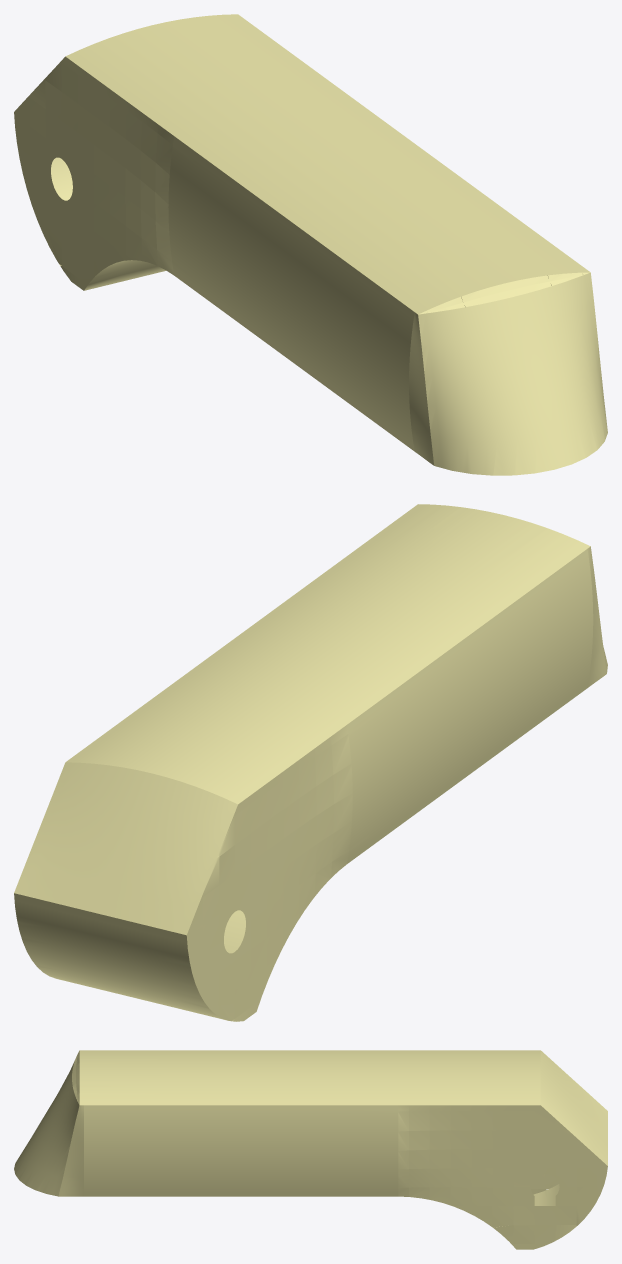
The model's file is original-1.obj.
3 renders of one model, top to bottom at view 1: azimuth 30°, elevation 25°; view 2: azimuth 150°, elevation 25°; view 3: azimuth 270°, elevation 25°, orthographic. The views are drawn at different scales.
Parts seen in each view (by area): view 1: #ID14; view 2: #ID14; view 3: #ID14.
Part boxes in pixels (bbox=[...]): #ID14: bbox=[14, 14, 607, 475]; #ID14: bbox=[14, 504, 607, 1021]; #ID14: bbox=[14, 1050, 607, 1249].
Size of the model in its own units: 0.4061 by 0.4865 by 1.73.
